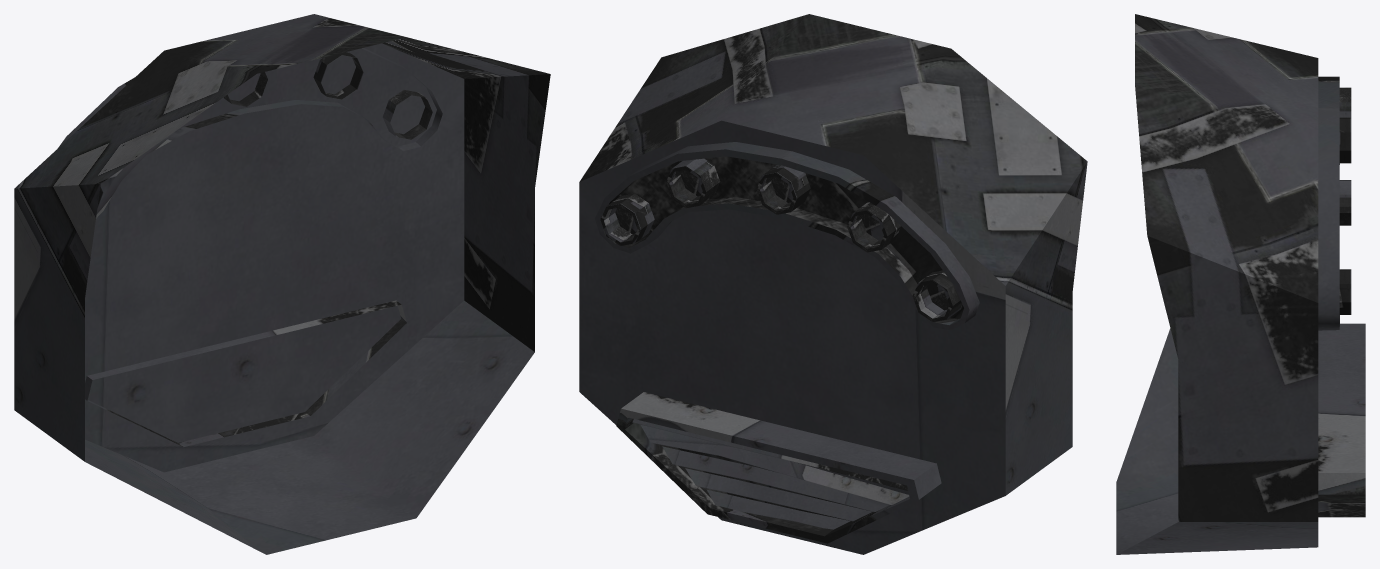
Rendered from HCD10.fbx.
3 renders of one model, left to right at view 1: azimuth 30°, elevation 25°; view 2: azimuth 150°, elevation 25°; view 3: azimuth 270°, elevation 25°, orthographic. The views are drawn at different scales.
Parts seen in each view (by area): view 1: tenD; view 2: tenD; view 3: tenD.
Part boxes in pixels (<box>): tenD: <box>14,14,550,554</box>; tenD: <box>579,14,1087,554</box>; tenD: <box>1116,14,1365,554</box>.
Bounding box in the file's own units: 5948 × 5990 × 2891.
Materials: 1 (1 with a texture image).
